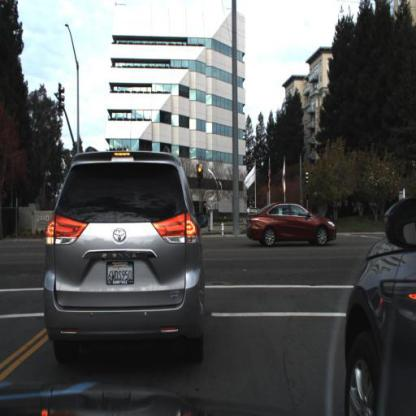car: (41, 152, 205, 372), (347, 199, 415, 414), (246, 200, 339, 252)
trafficLight: (196, 163, 205, 189)
